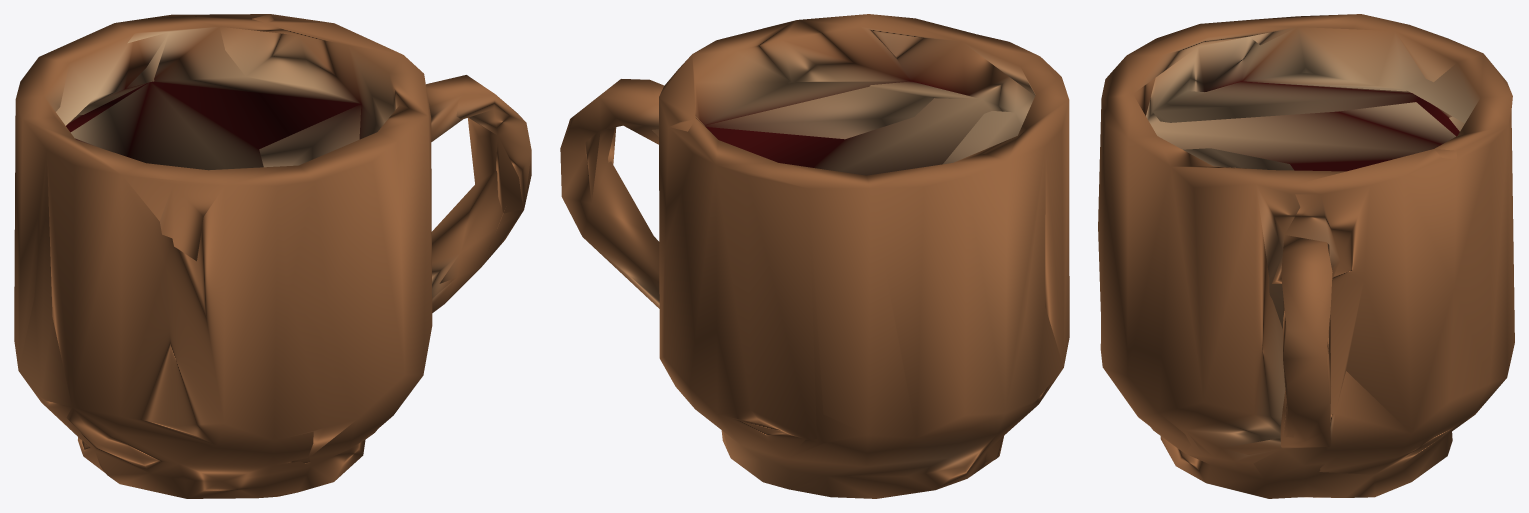
Rendered from gen3d-coffee-lod1.glb.
3 views of the same model, side by side, from view 1: azimuth 30°, elevation 25°; view 2: azimuth 150°, elevation 25°; view 3: azimuth 270°, elevation 25° (orthographic).
Parts seen in each view (by area): view 1: part_0; view 2: part_0; view 3: part_0.
Part boxes in pixels (x1,y1,x2,y2): part_0: (14, 14, 531, 498); part_0: (560, 14, 1069, 498); part_0: (1098, 14, 1514, 498).
Size of the model in its own units: 1.43 by 0.9966 by 1.08.
